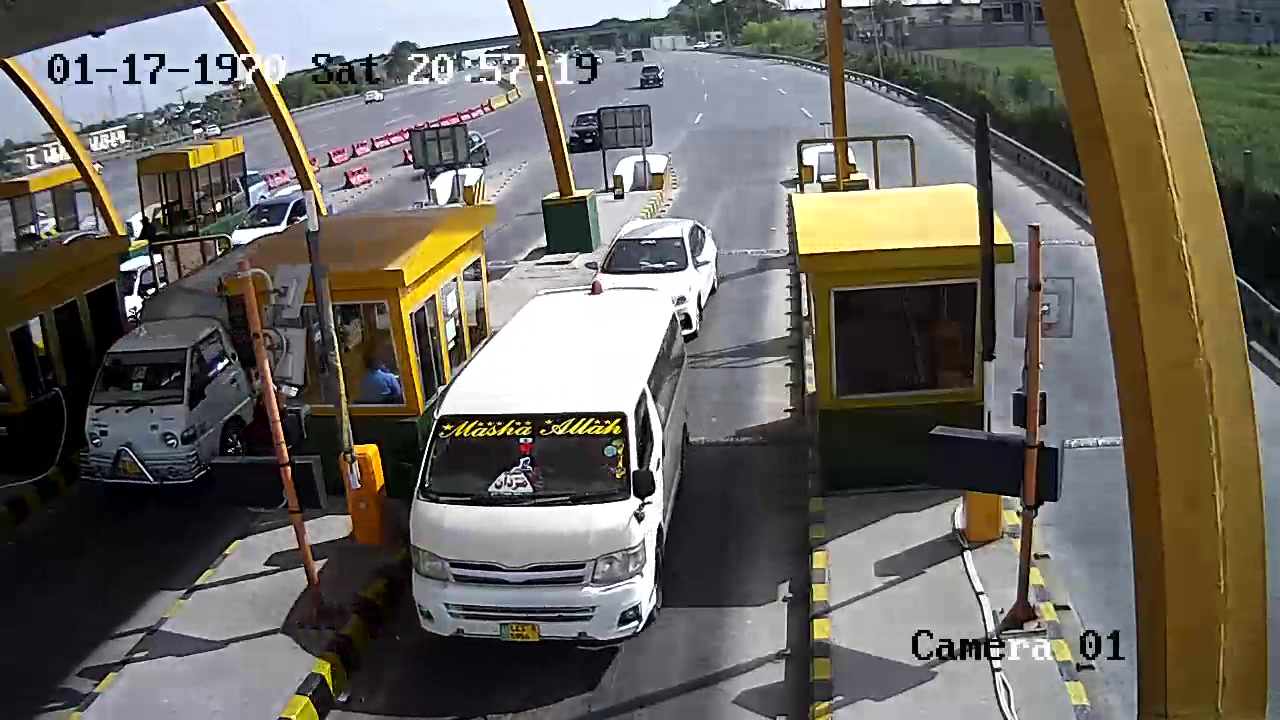F2: (397, 283, 696, 655)
